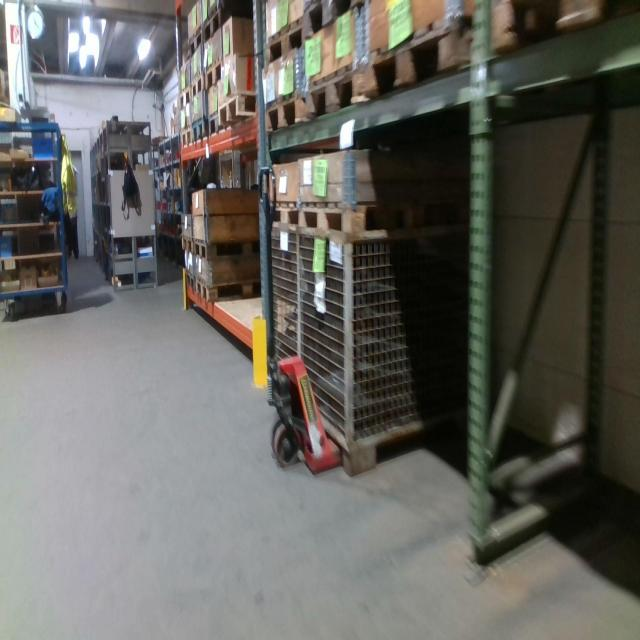pallet: (355, 15, 472, 102), (298, 193, 451, 244), (487, 3, 614, 52), (309, 56, 359, 121), (260, 10, 305, 74), (268, 88, 309, 149), (192, 232, 267, 260), (193, 271, 262, 300), (306, 0, 358, 38), (220, 84, 261, 132), (201, 4, 246, 45), (267, 201, 307, 238), (206, 56, 229, 95), (186, 18, 205, 64), (191, 67, 206, 108), (192, 114, 208, 149), (174, 84, 190, 115), (208, 108, 222, 143), (178, 119, 194, 149), (179, 231, 194, 252), (182, 266, 193, 290)
pallet_truck: (255, 157, 344, 476)
small_load_carrier: (33, 137, 55, 162)
stillage: (295, 221, 475, 480), (261, 215, 299, 372)
